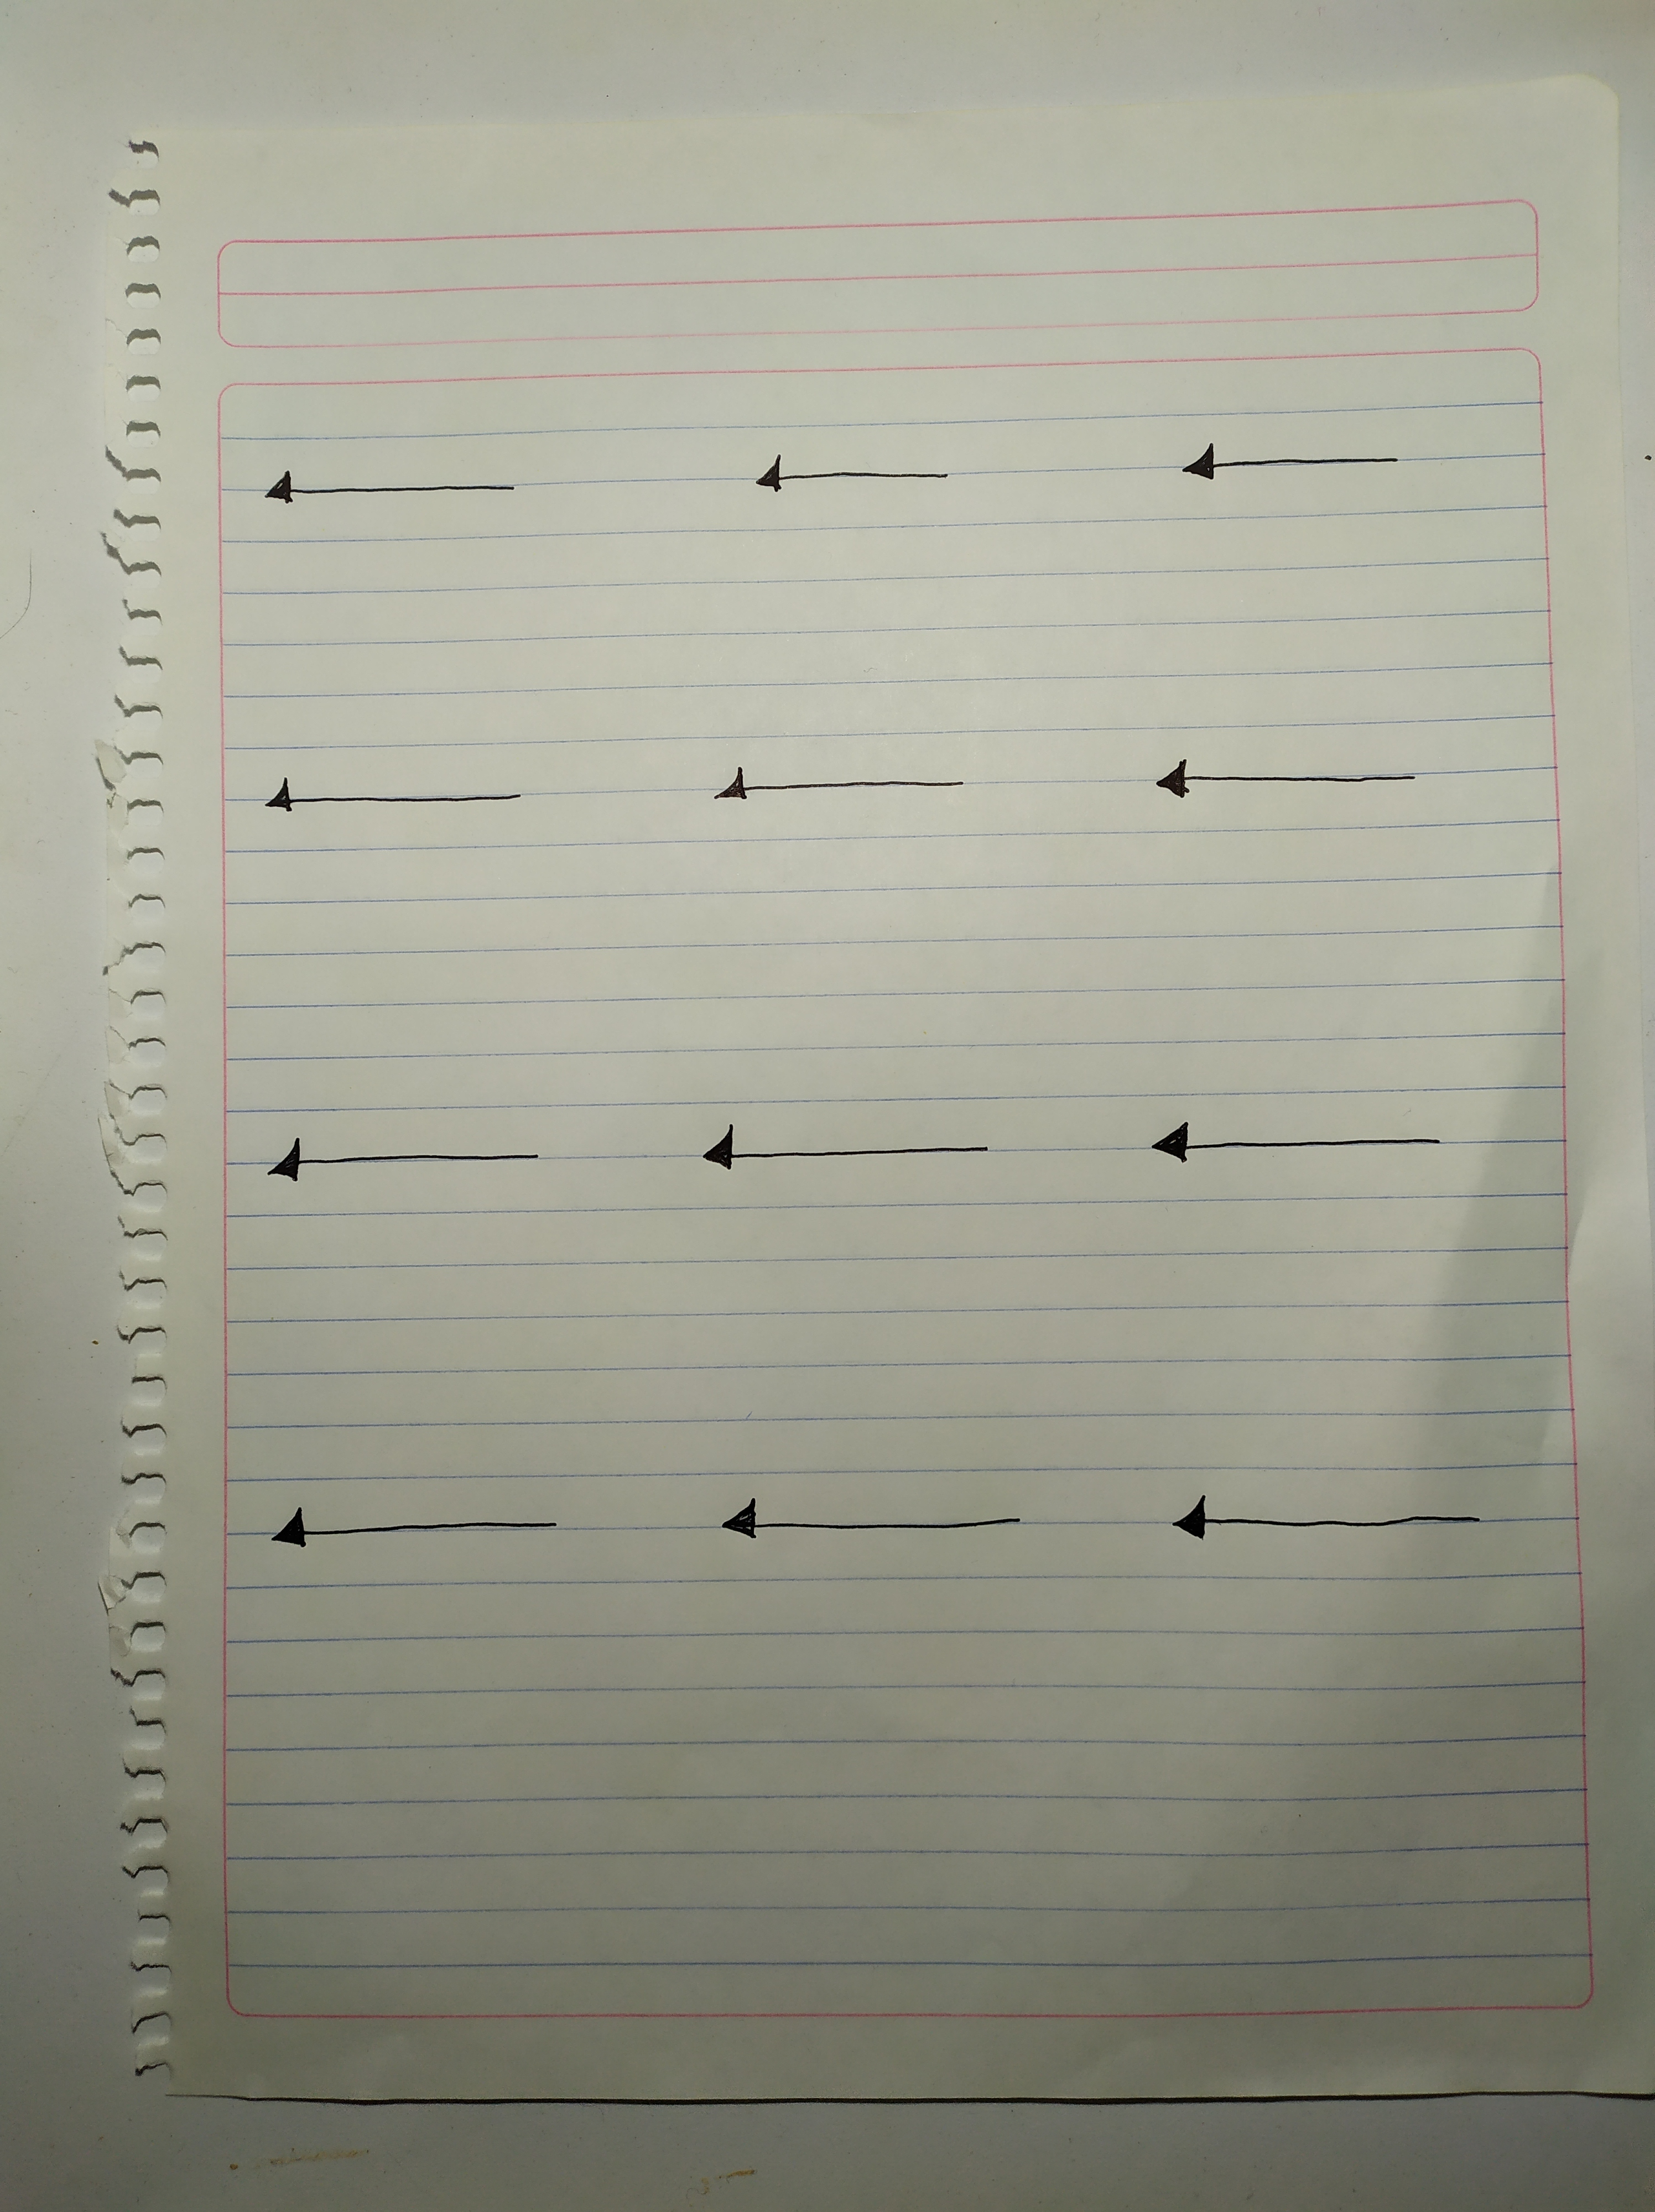arrow_line_left: (690, 1489, 1059, 1571), (687, 1107, 1027, 1194), (1109, 1107, 1476, 1187), (245, 1498, 595, 1581), (245, 1123, 577, 1209), (1151, 1482, 1509, 1562), (236, 455, 556, 533), (1146, 424, 1455, 504), (687, 754, 991, 834), (1130, 749, 1446, 825), (245, 763, 549, 838), (720, 436, 989, 509)
